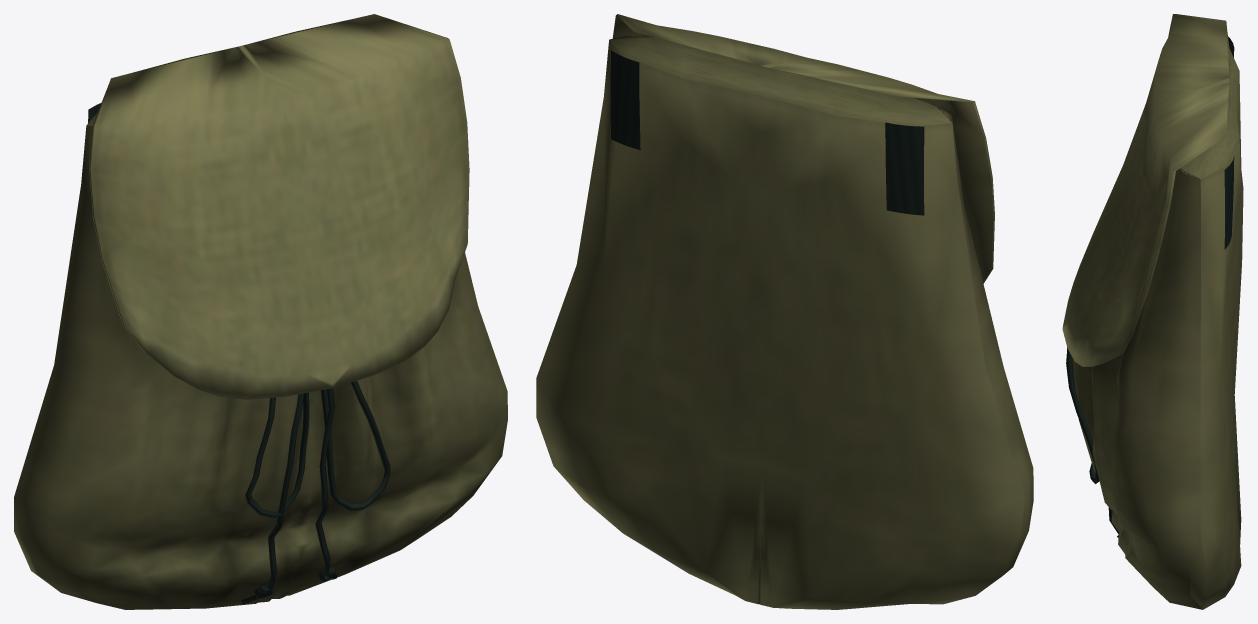
The model's file is OliveClothPouchLow.glb.
3 views of the same model, side by side, from view 1: azimuth 30°, elevation 25°; view 2: azimuth 150°, elevation 25°; view 3: azimuth 270°, elevation 25° (orthographic). The views are drawn at different scales.
Parts seen in each view (by area): view 1: Symmetric Cloth Pouch; view 2: Symmetric Cloth Pouch; view 3: Symmetric Cloth Pouch.
Part boxes in pixels (left/top/right/bottom): Symmetric Cloth Pouch: left=14, top=14, right=507, bottom=609; Symmetric Cloth Pouch: left=536, top=14, right=1033, bottom=609; Symmetric Cloth Pouch: left=1062, top=14, right=1243, bottom=609.
Size of the model in its own units: 0.9616 by 1.01 by 0.3422.
Materials: 1 (1 with a texture image).
